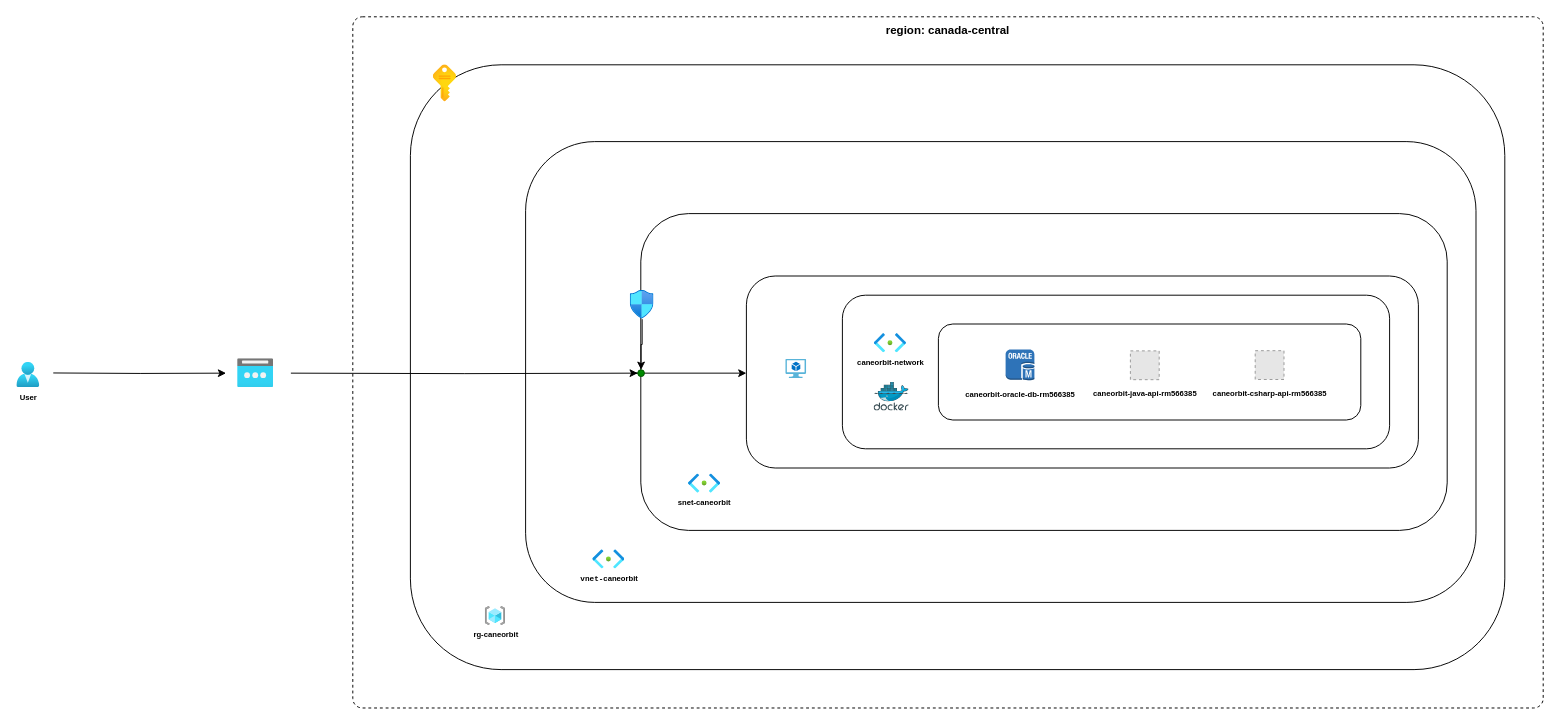
This 1560x725 diagram has some shape labels left out. Grey dashed boxes stand in for pictures. The shapes that lost their labels are listed below. From the top down, each one's box as (x1, y1, x2, y2) in pixels, then its label:
(433, 64, 456, 101): Azure For Students
(630, 290, 653, 319): nsg-caneorbit Allow TCP: 8080, 1521, 22, 5000
(237, 358, 273, 387): Public IP Adress
(785, 359, 806, 378): vm-caneorbit
